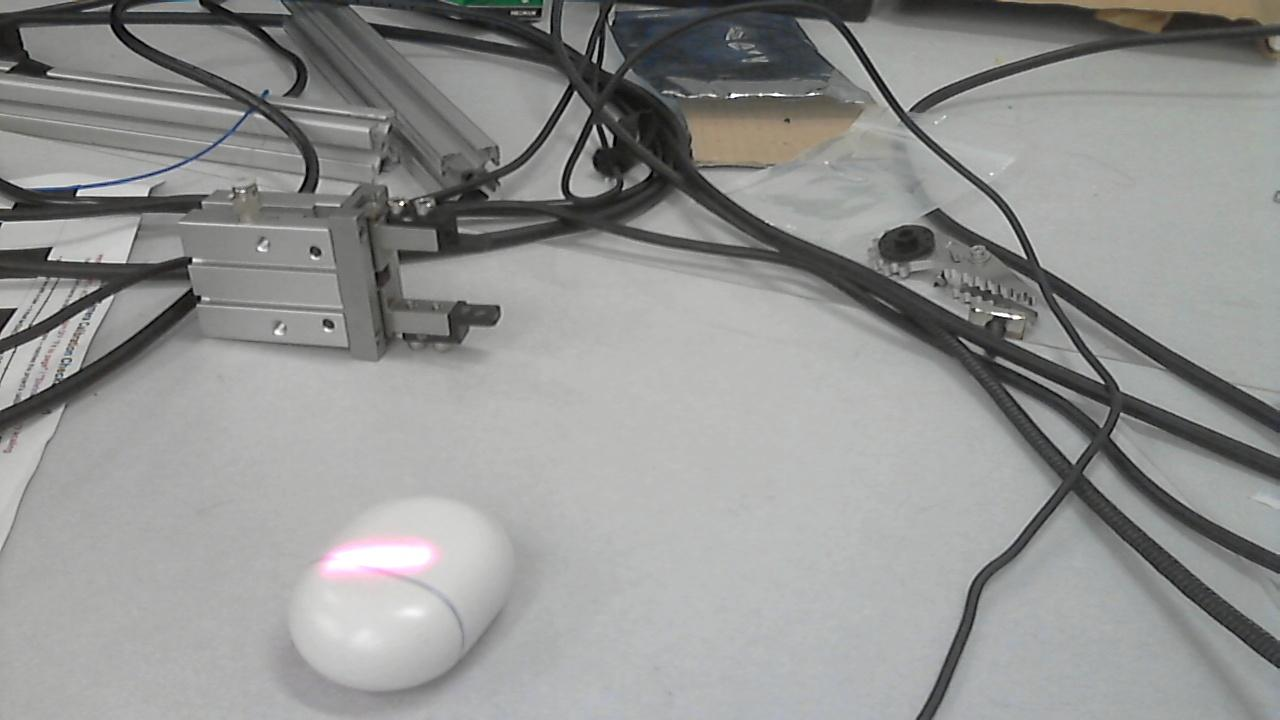Object wireless earbud charging case - Material plastic - Pdfname qzJIPQkli2jB: (306, 539, 449, 580)
